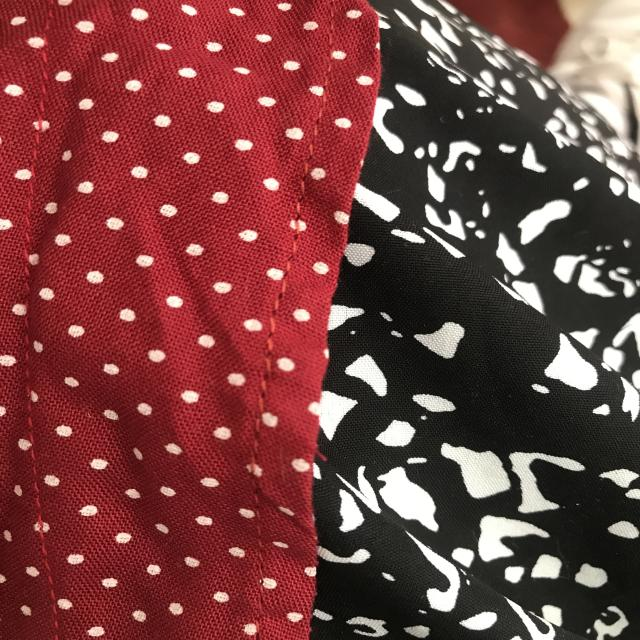good: (16, 219, 51, 424), (26, 456, 69, 612), (245, 290, 288, 442)
